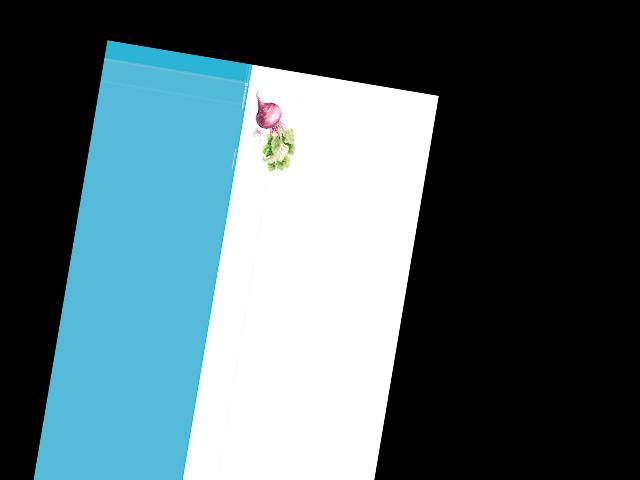beet: (243, 92, 303, 175)
